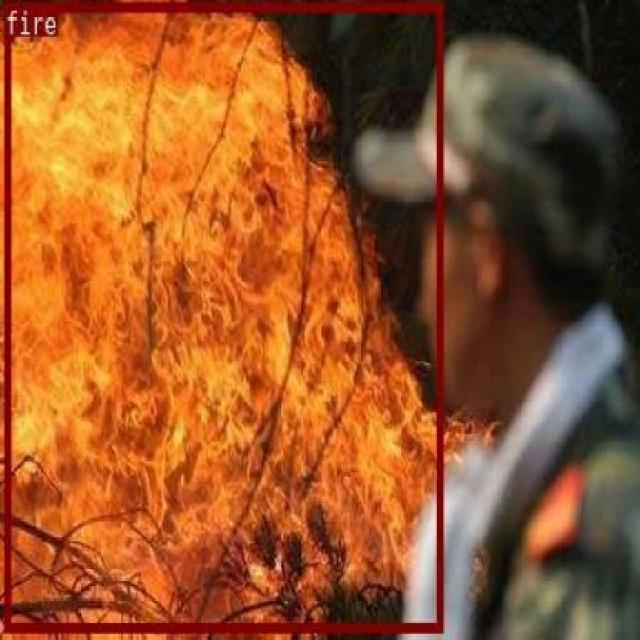Fire: (3, 1, 442, 632)
